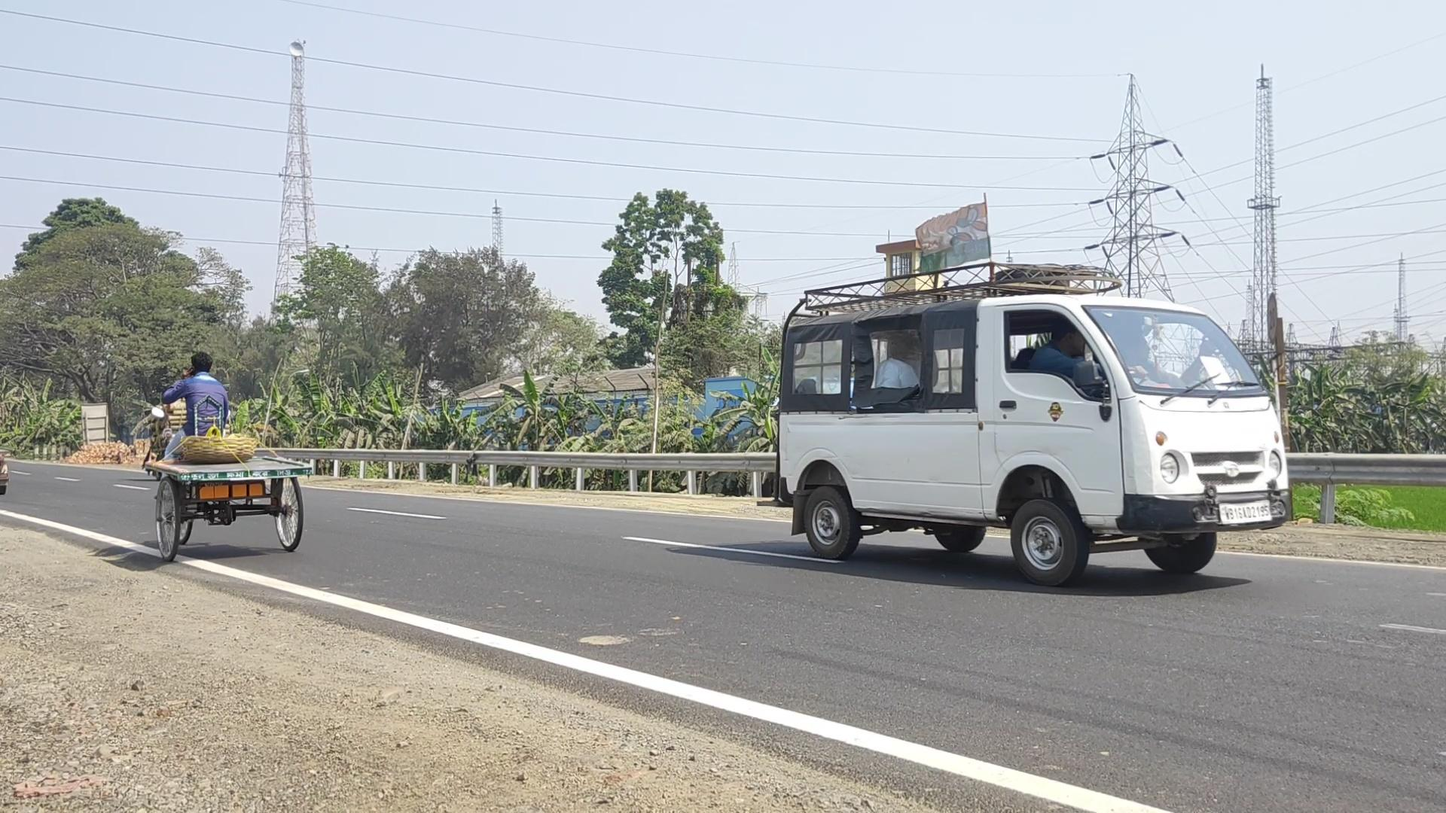van: (777, 262, 1293, 587)
